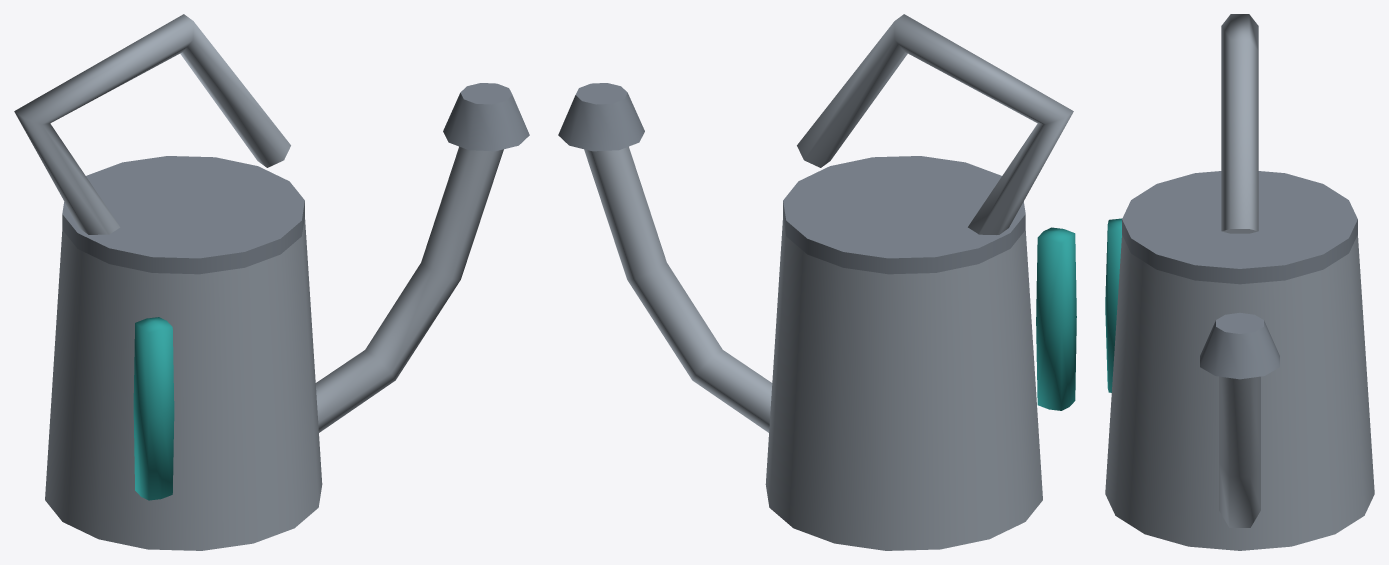
Rendered from watering_can.glb.
3 views of the same model, side by side, from view 1: azimuth 30°, elevation 25°; view 2: azimuth 150°, elevation 25°; view 3: azimuth 270°, elevation 25° (orthographic). The views are drawn at different scales.
Visible parts, largest first — view 1: root; view 2: root; view 3: root.
Part boxes in pixels (left/top/right/bottom): root: left=14, top=14, right=529, bottom=550; root: left=558, top=14, right=1076, bottom=550; root: left=1105, top=14, right=1374, bottom=550.
Bounding box in the file's own units: 0.6676 × 0.5978 × 0.32.
